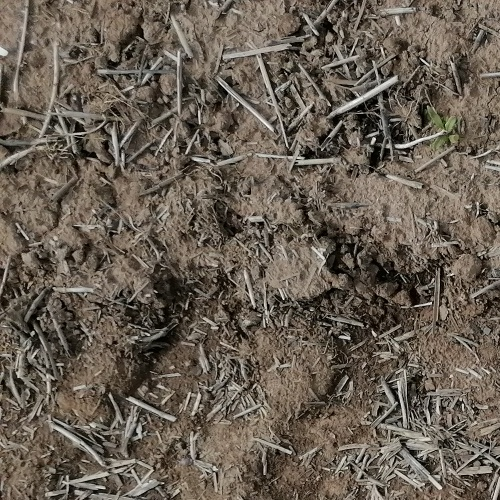beet: (426, 103, 464, 149)
